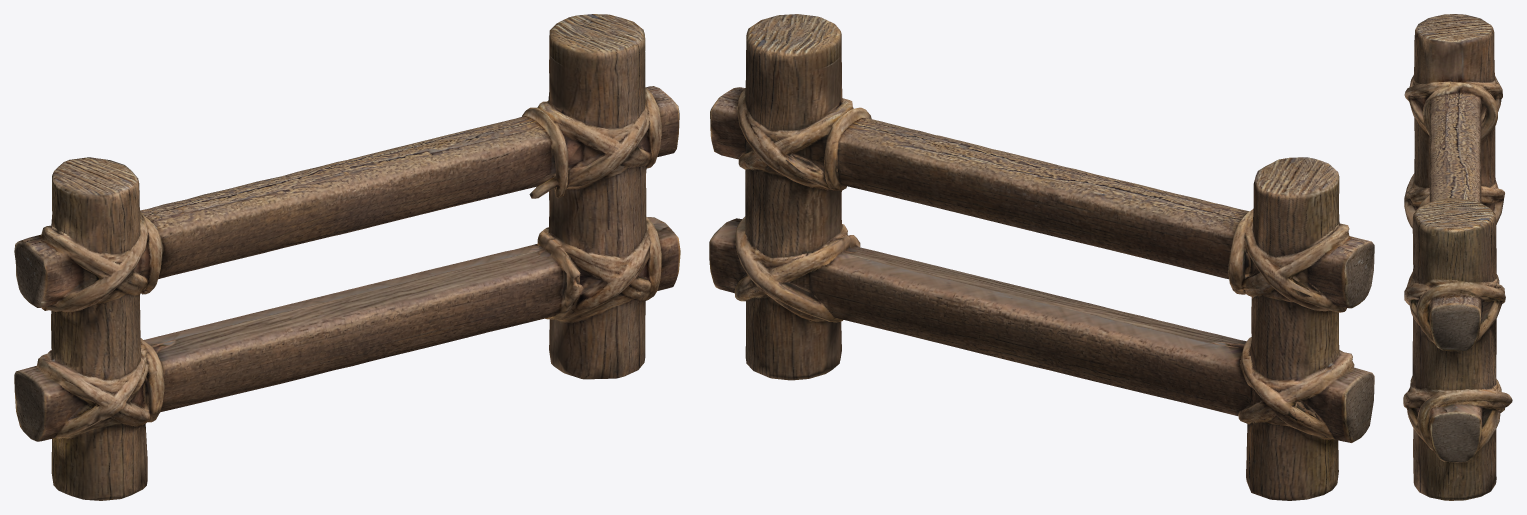
File: CampFence.fbx
3 renders of one model, left to right at view 1: azimuth 30°, elevation 25°; view 2: azimuth 150°, elevation 25°; view 3: azimuth 270°, elevation 25°, orthographic. The views are drawn at different scales.
Parts seen in each view (by area): view 1: CampFence; view 2: CampFence; view 3: CampFence.
Boxes of the visible parts, box(x1,y1,x2,y2) form: CampFence: box(14, 14, 680, 500); CampFence: box(709, 14, 1374, 500); CampFence: box(1403, 14, 1512, 500).
Bounding box in the file's own units: 301 × 149 × 53.99.
Materials: 1 (1 with a texture image).
